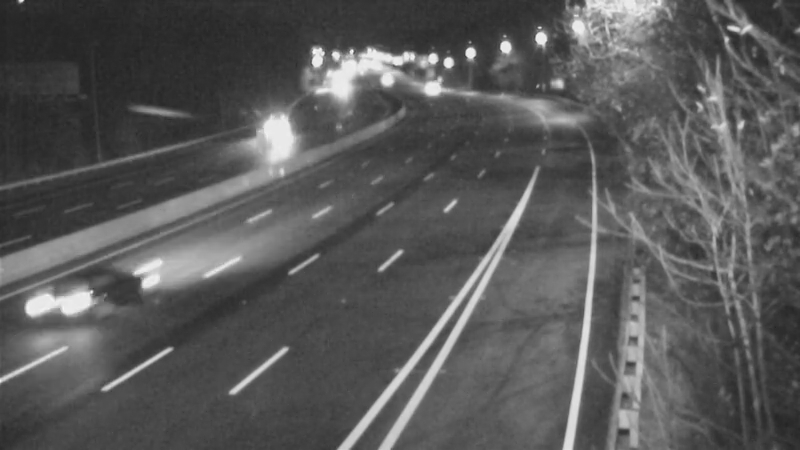vehicle: (23, 257, 103, 337), (407, 61, 457, 111), (256, 106, 306, 156)
